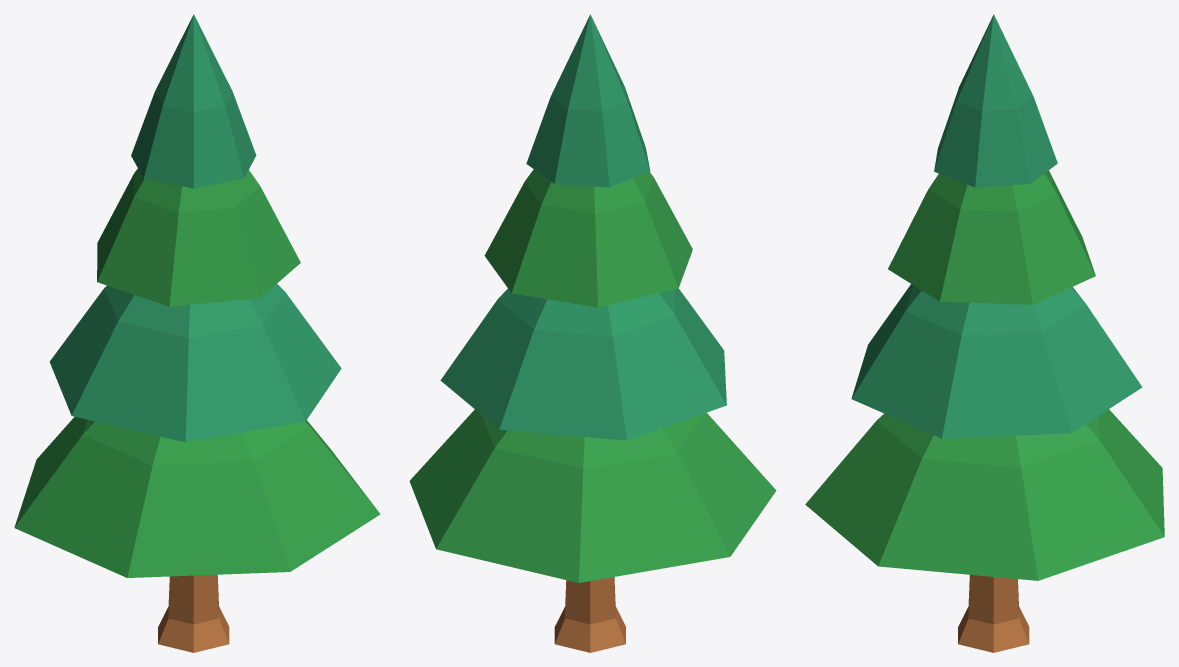
File: pine_c.glb
3 renders of one model, left to right at view 1: azimuth 30°, elevation 25°; view 2: azimuth 150°, elevation 25°; view 3: azimuth 270°, elevation 25°, orthographic.
Visible parts, largest first — view 1: pine_c; view 2: pine_c; view 3: pine_c.
Part boxes in pixels (left/top/right/bottom): pine_c: left=14, top=14, right=380, bottom=652; pine_c: left=409, top=14, right=776, bottom=652; pine_c: left=805, top=14, right=1164, bottom=652.
Bounding box in the file's own units: 4.29 × 8 × 4.19.
